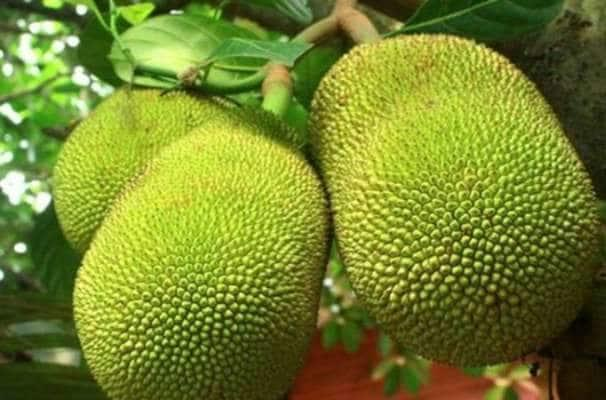mit: (309, 32, 600, 367), (68, 95, 329, 400)
